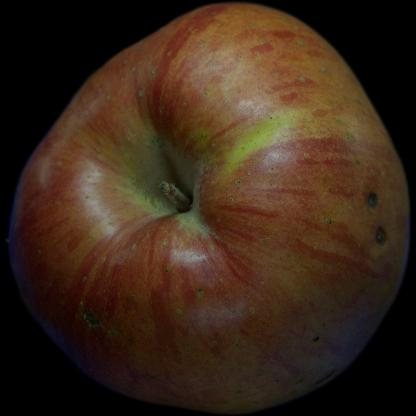defect: (327, 167, 409, 264)
